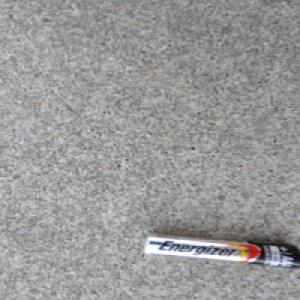Battery: (140, 230, 300, 271)
